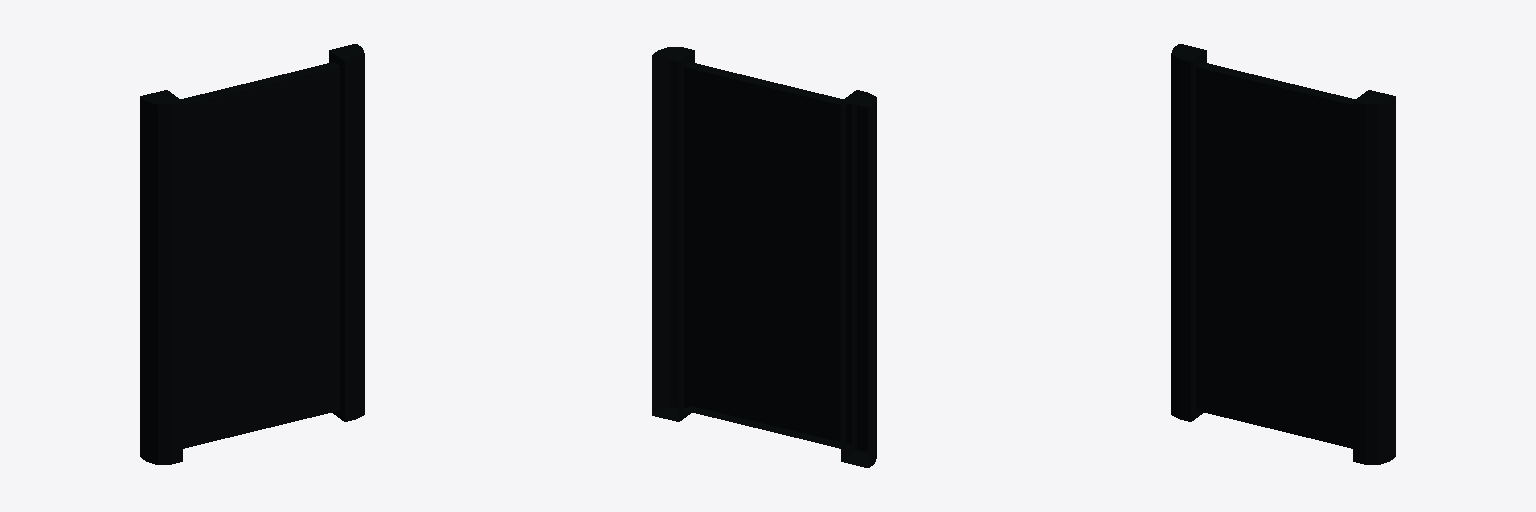
File: Wall_Display_Green.obj
The picture shows the model from 3 angles: view 1: azimuth 30°, elevation 25°; view 2: azimuth 150°, elevation 25°; view 3: azimuth 330°, elevation 25°; orthographic projection.
Visible parts, largest first — view 1: Wall_Display_Green; view 2: Wall_Display_Green; view 3: Wall_Display_Green.
Boxes of the visible parts, <box> form: Wall_Display_Green: <box>140,44,364,464</box>; Wall_Display_Green: <box>652,47,876,467</box>; Wall_Display_Green: <box>1171,44,1395,464</box>.
Size of the model in its own units: 1.54 by 2.46 by 0.1946.